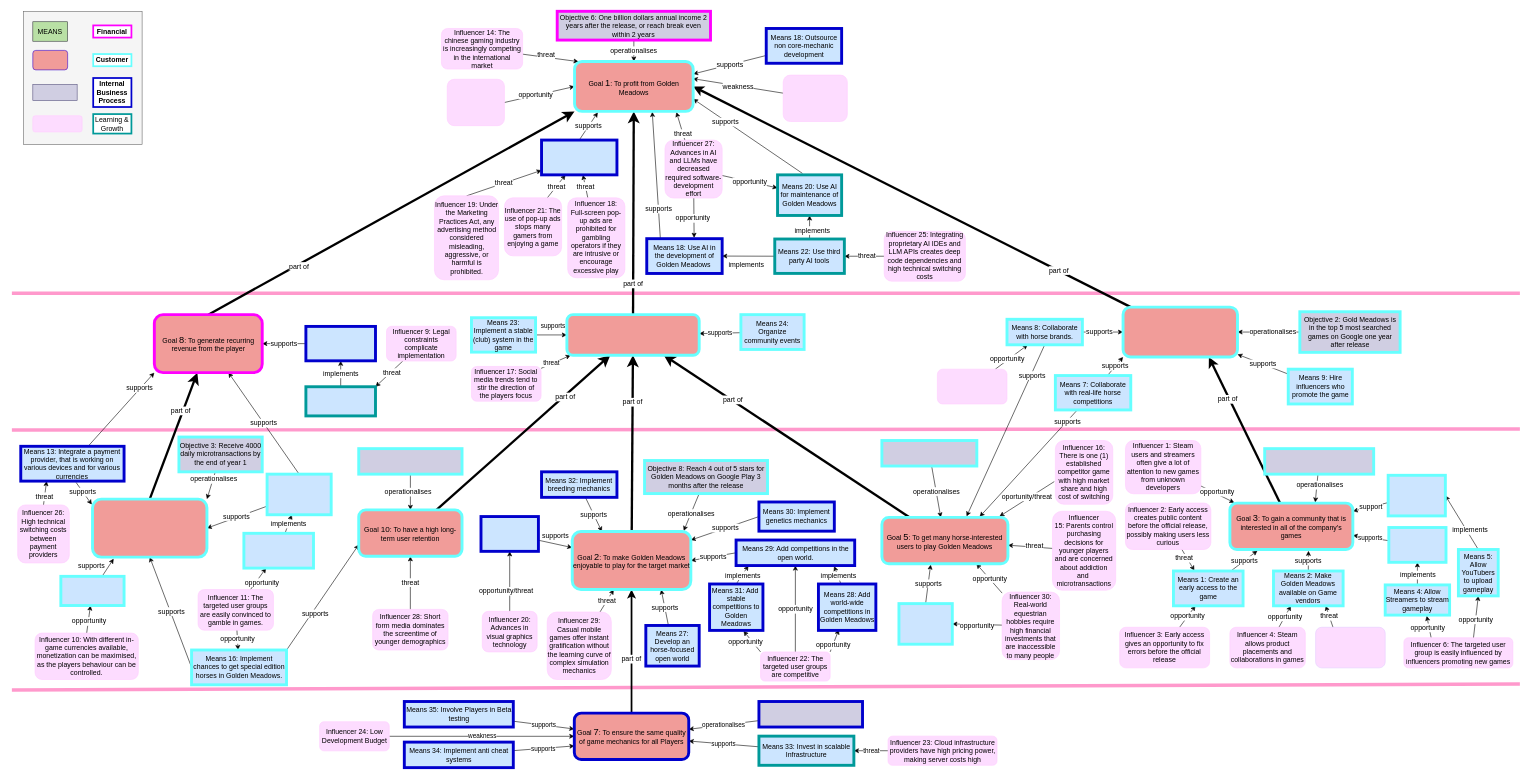
Some shapes in this 1532 by 779 pixel diagram are drawn without their labels. The centre of each missing label's shape, as x and y in pixels:
"GOAL" goes at pixel 50 60.
"Goal 4 : To get users to make payments inside of Golden Meadows" goes at pixel 149 527.
"Goal 6 : To build a large player base" goes at pixel 632 334.
"Goal 9 : To establish a strong recognizable brand" goes at pixel 1180 331.
"INFLUENCER" goes at pixel 57 123.
"Influencer 12: The employees morality can stop profit-focused implementations" goes at pixel 815 98.
"Influencer 13: The targeted user groups are easily convinced to pay in games." goes at pixel 475 102.
"Influencer 5: Steam prohibits intrusive advertisement in games" goes at pixel 1350 647.
"Influencer 8: Many riders in real life use horse equipment that is merchandise" goes at pixel 972 386.
"Means 11: Collect user data" goes at pixel 340 401.
"Means 12: Sell user data to advertising companies" goes at pixel 340 343.
"Means 14: Integrate various in-game currencies" goes at pixel 92 591.
"Means 15: Create a monthly premium membership for Golden Meadows" goes at pixel 298 494.
"Means 17: Give premium players of Golden Meadows daily login rewards" goes at pixel 278 550.
"Means 21: Show pop-up ads in Golden Meadows" goes at pixel 579 157.
"Means 25: Make Golden Meadows free to play" goes at pixel 925 623.
"Means 26: Make Golden Meadows visually pleasing" goes at pixel 509 534.
"Means 3: Encourage Streamers to stream gameplay" goes at pixel 1417 544.
"Means 6: Encourage YouTubers to upload gameplay" goes at pixel 1416 495.
"OBJECTIVE" goes at pixel 54 92.
"Objective 1: Have 9.000 followers on Steam before the release" goes at pixel 1319 461.
"Objective 4: Acquire 100.000 active players within 1 year" goes at pixel 929 453.
"Objective 5: Maintain 60% monthly retention after 2 month after the release" goes at pixel 410 461.
"Objective 7: Complete Beta testing 1 month before release" goes at pixel 810 714.
